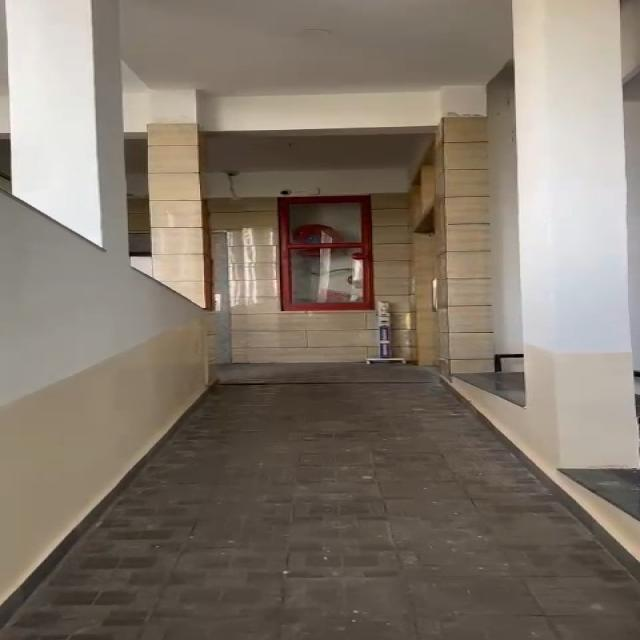floor: (139, 372, 478, 639)
wall: (0, 0, 227, 418), (347, 80, 640, 349)
